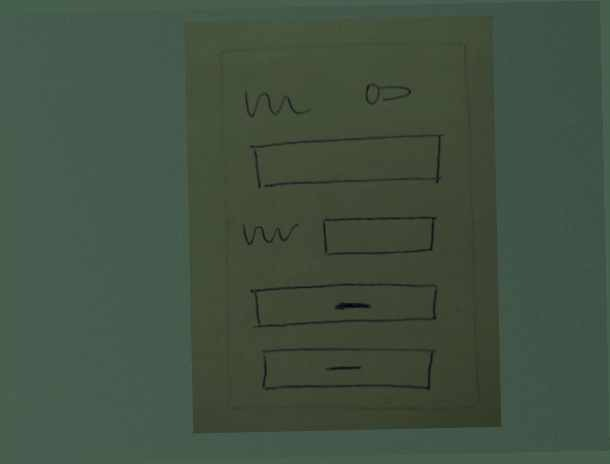button: (254, 339, 442, 399), (245, 278, 442, 335)
switch: (353, 74, 420, 109)
text: (239, 79, 315, 128), (235, 212, 304, 248)
text_input: (242, 131, 453, 196), (317, 209, 442, 262)
